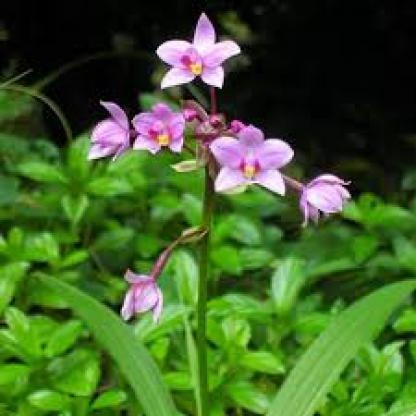ANGGREK: (101, 27, 373, 323)
